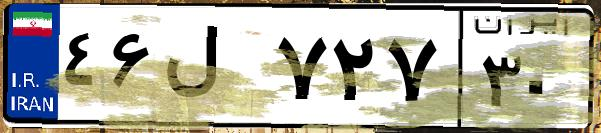0: (525, 38, 570, 115)
2: (330, 28, 385, 110)
3: (475, 38, 525, 113)
4: (57, 26, 110, 100)
6: (110, 28, 158, 98)
7: (270, 28, 330, 110), (385, 28, 445, 110)
ل: (158, 20, 270, 120)
